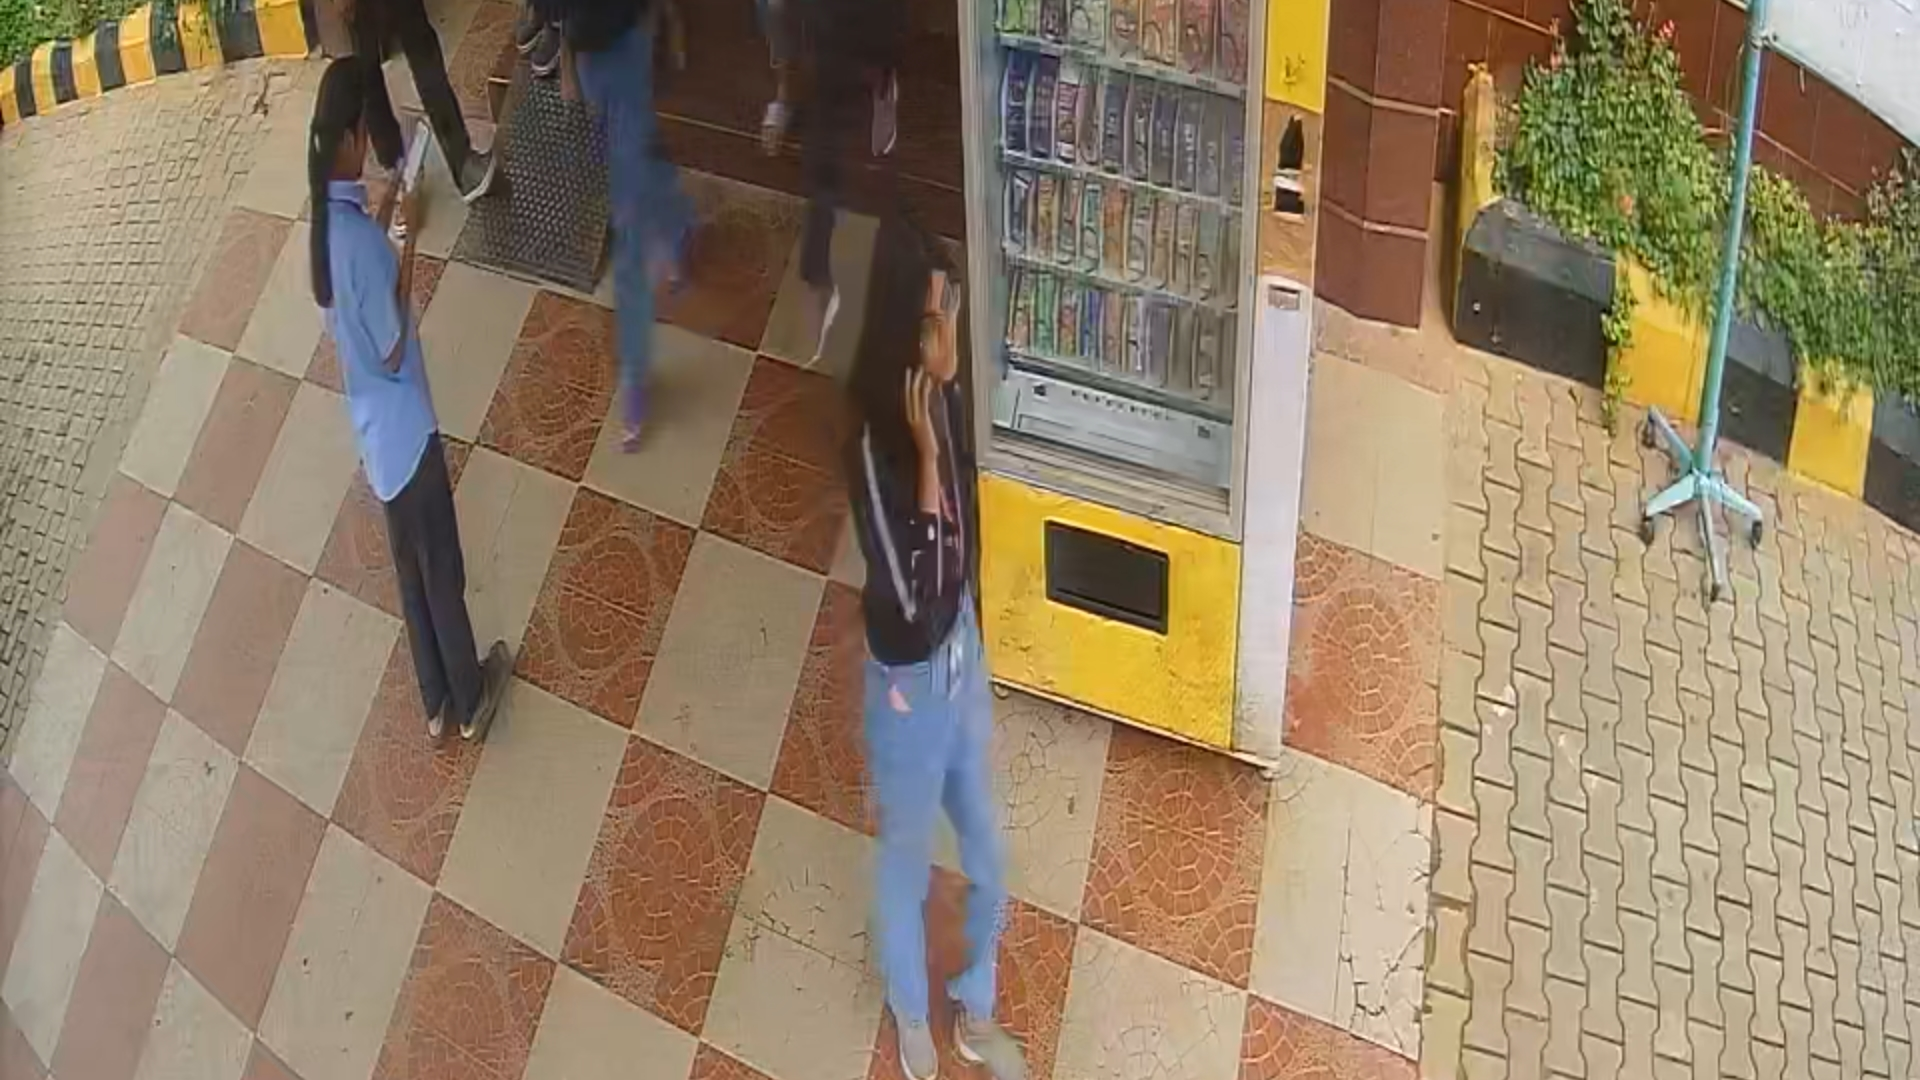intruder: (835, 212, 1033, 1080)
